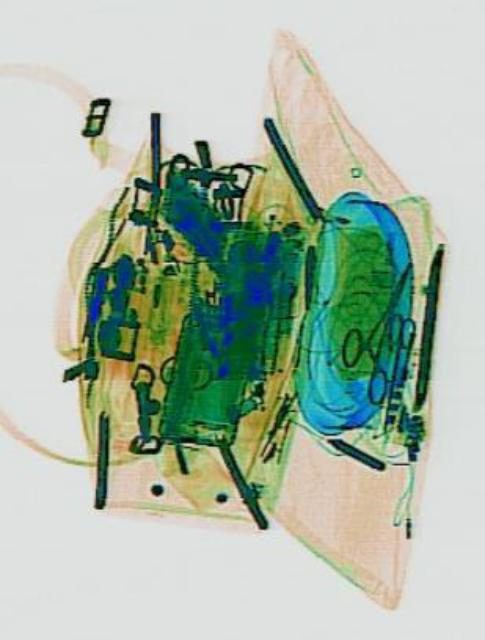Scissors: (325, 241, 439, 405), (369, 308, 416, 434)
